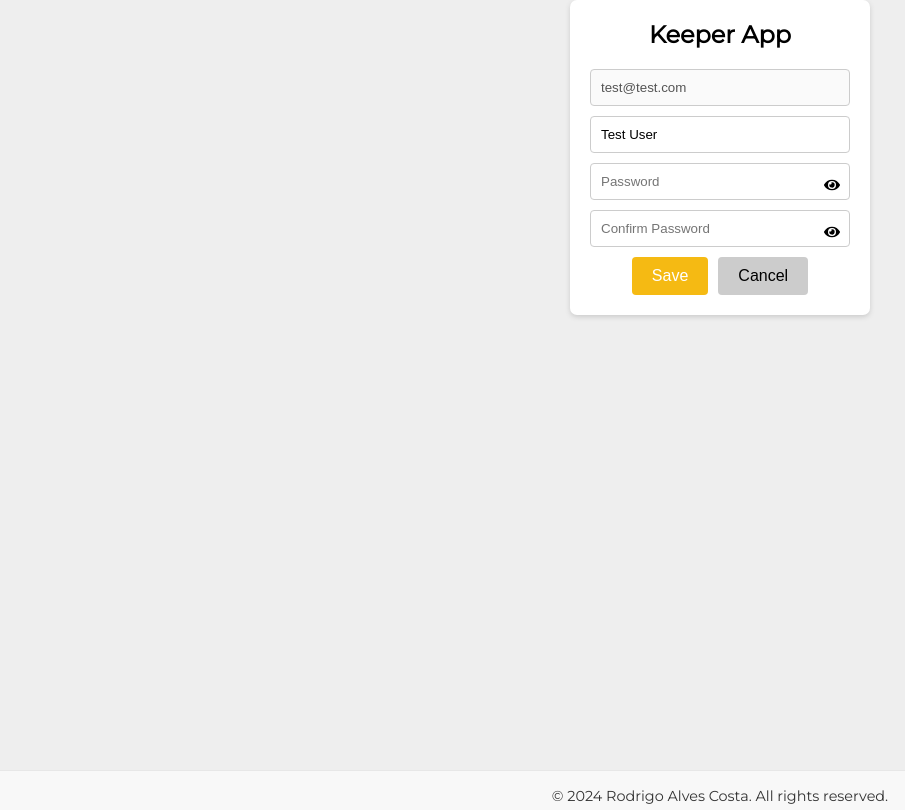
Test: UserForm › should successfully register a user
Replace the text in the 1st field with placeholder "Email" with "email123@email123.com": [720, 88] box x1=590 y1=69 x2=850 y2=106
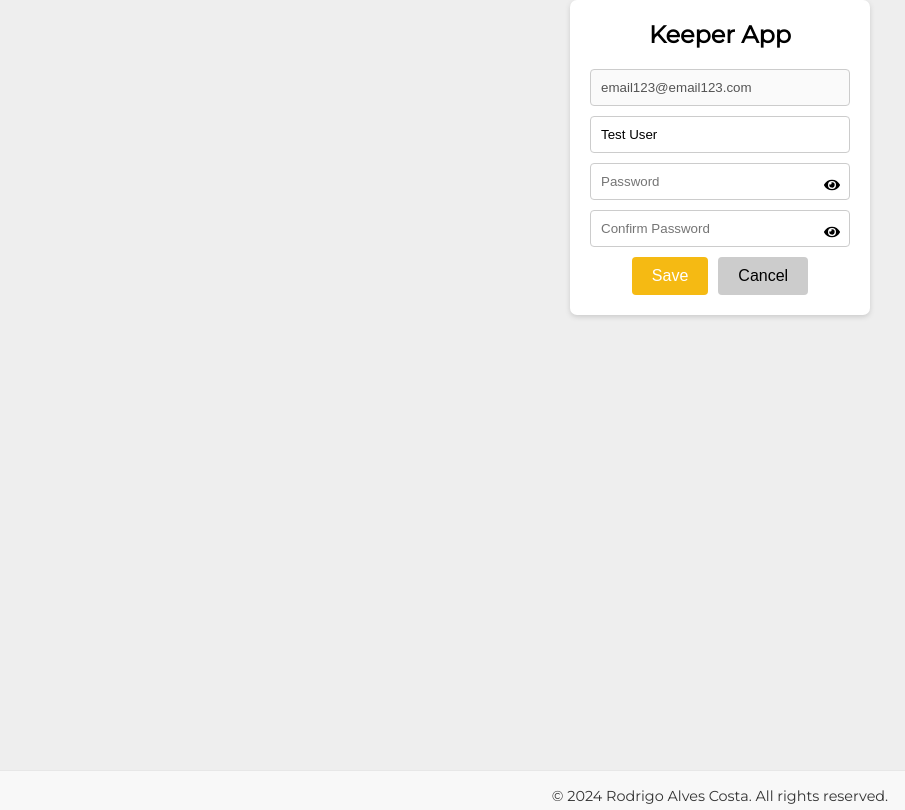
Replace the text in the 2nd field with placeholder "Full Name" with "Full Name 123": [720, 134] box x1=590 y1=116 x2=850 y2=153
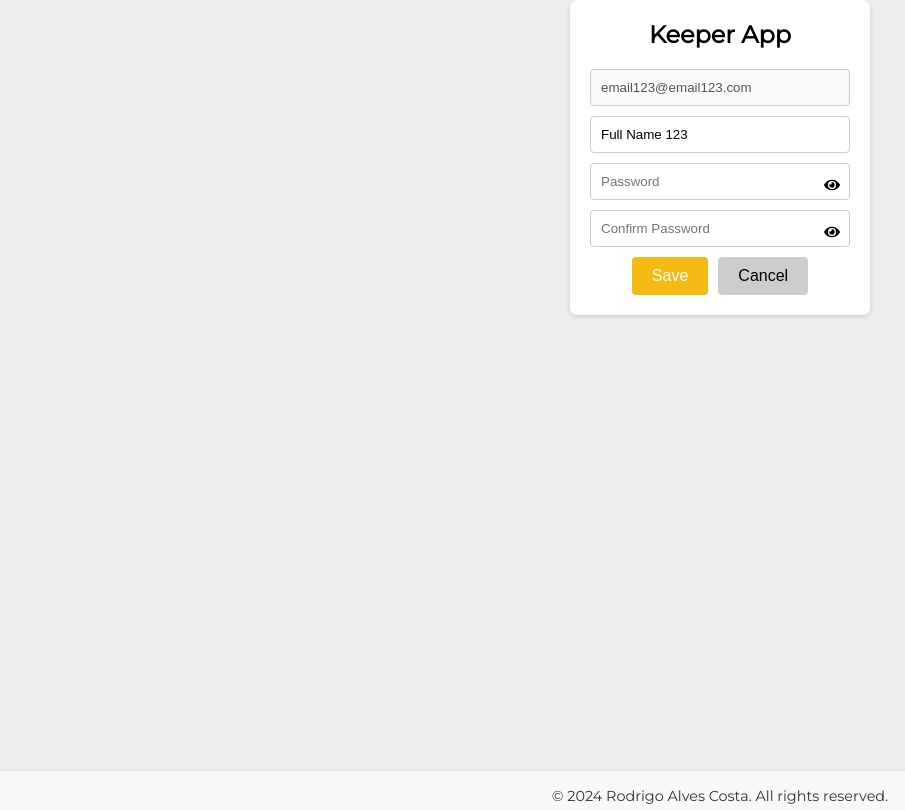
In the password field with placeholder "Password": [720, 182] box x1=590 y1=163 x2=850 y2=200, type "password123"
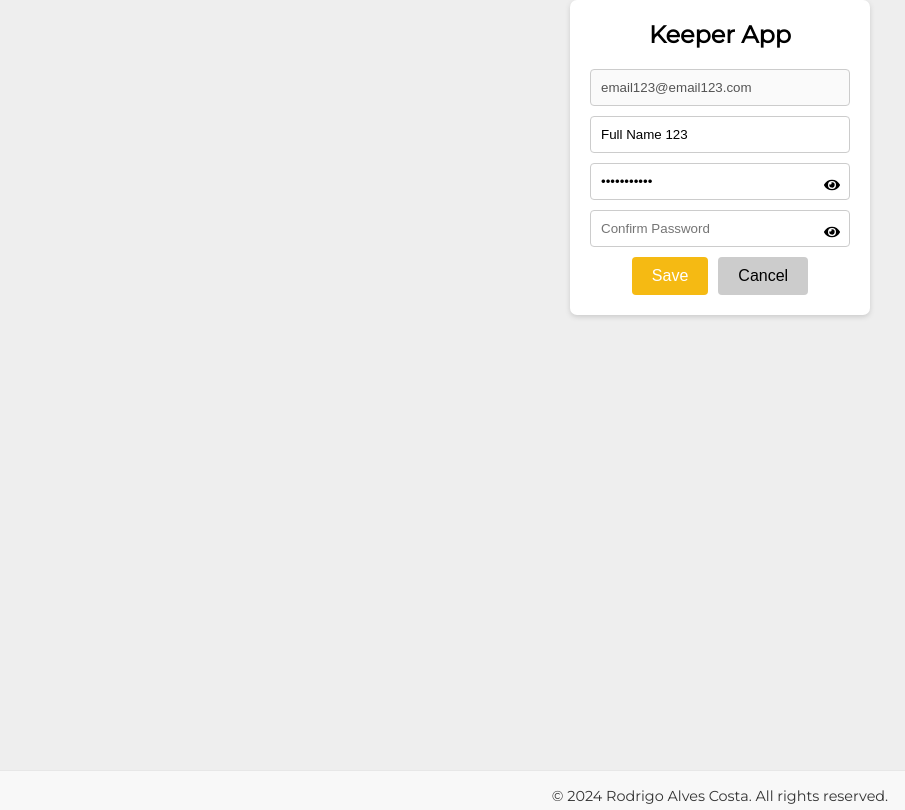
In the password field with placeholder "Confirm Password": [720, 228] box x1=590 y1=210 x2=850 y2=247, type "password123"
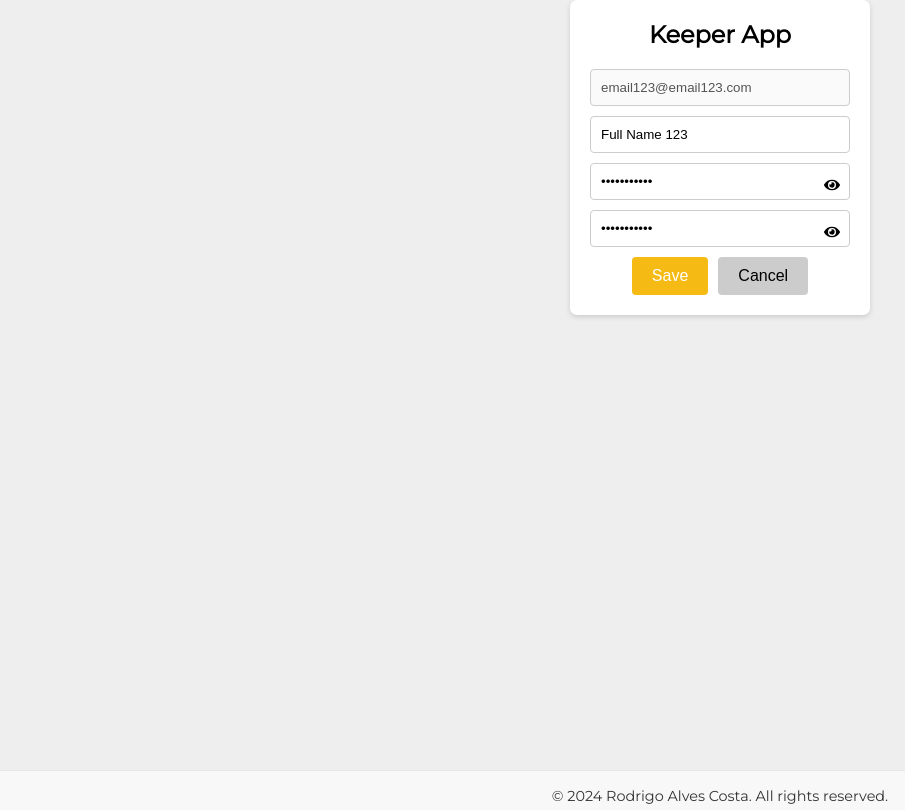
Click the button "Save": [670, 276] box x1=632 y1=257 x2=708 y2=295
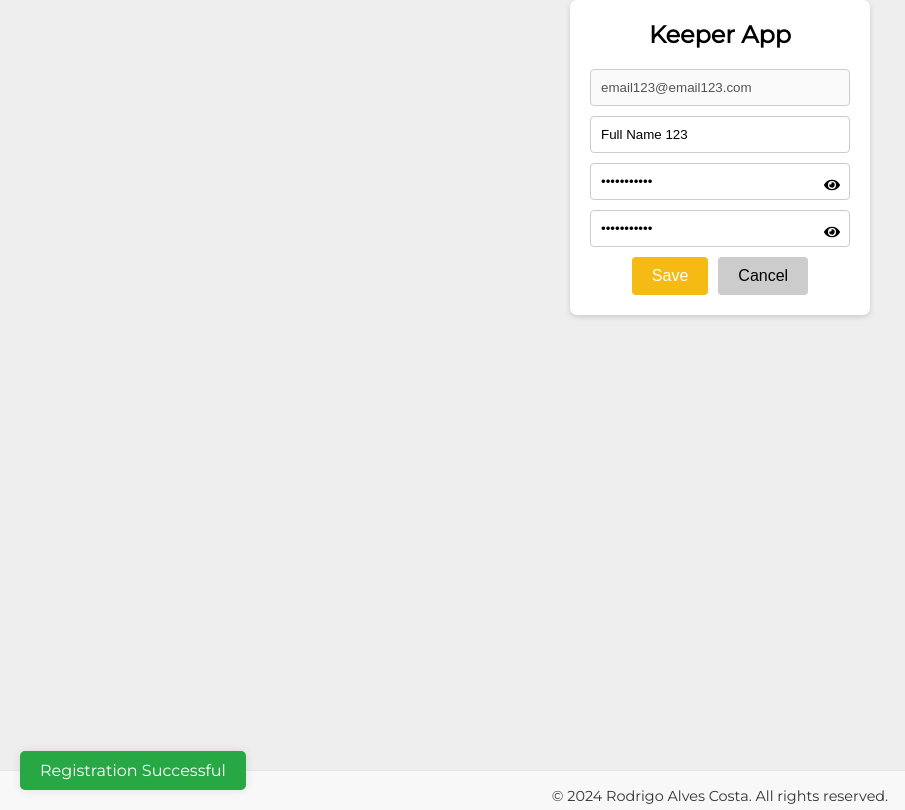
Check: the text "Registration Successful" is shown, box x1=20 y1=751 x2=246 y2=790
